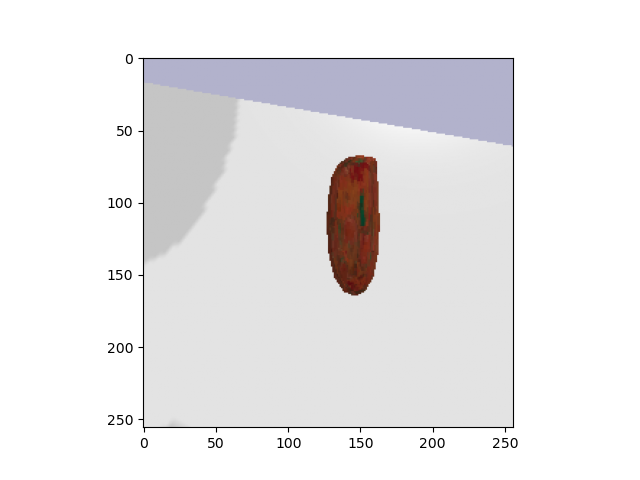v249b387_106: (323, 153, 391, 300)
